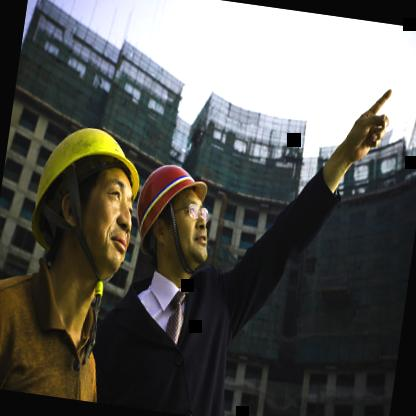helmet: (26, 102, 155, 296), (124, 143, 223, 284)
